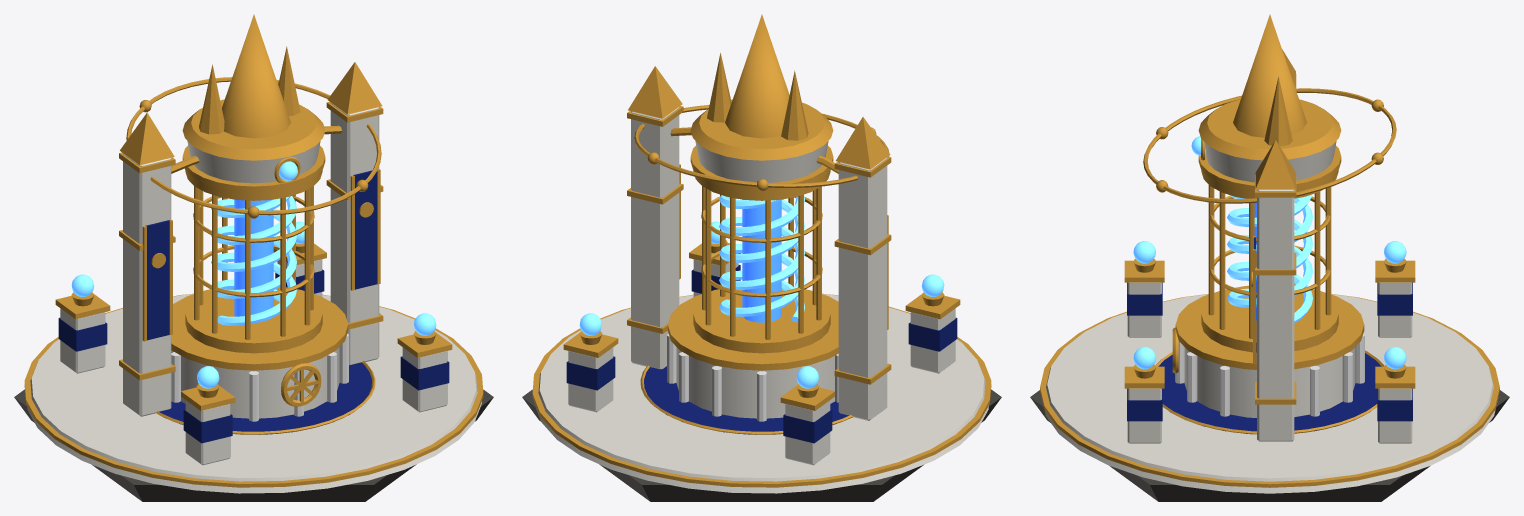
The model's file is zeus_keraunos_charging_spire.glb.
3 views of the same model, side by side, from view 1: azimuth 30°, elevation 25°; view 2: azimuth 150°, elevation 25°; view 3: azimuth 270°, elevation 25° (orthographic).
Parts seen in each view (by area): view 1: zeus_keraunos_charging_spire; view 2: zeus_keraunos_charging_spire; view 3: zeus_keraunos_charging_spire.
Boxes of the visible parts, x1,y1,x2,y2 form: zeus_keraunos_charging_spire: [14, 14, 493, 501]; zeus_keraunos_charging_spire: [522, 14, 1001, 501]; zeus_keraunos_charging_spire: [1030, 14, 1509, 501].
Bounding box in the file's own units: 1.61 × 1.57 × 1.68.
Materials: 1 (1 with a texture image).
